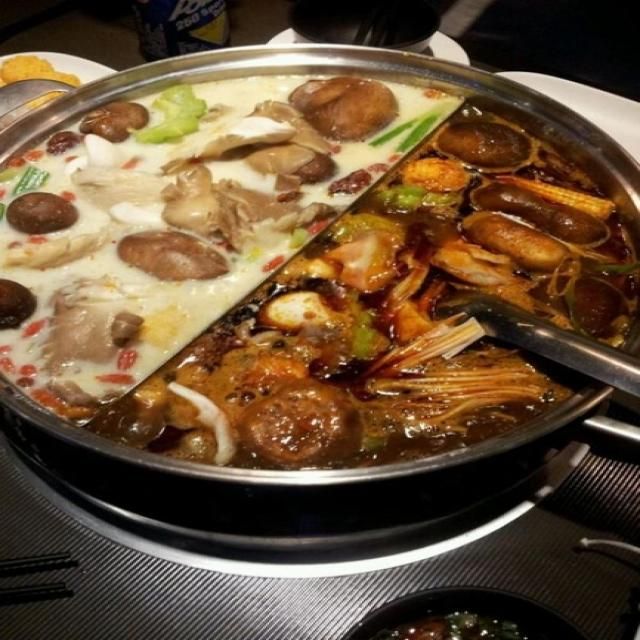汤锅炖物: (25, 44, 602, 552)
